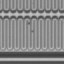dust: (27, 21, 31, 25)
